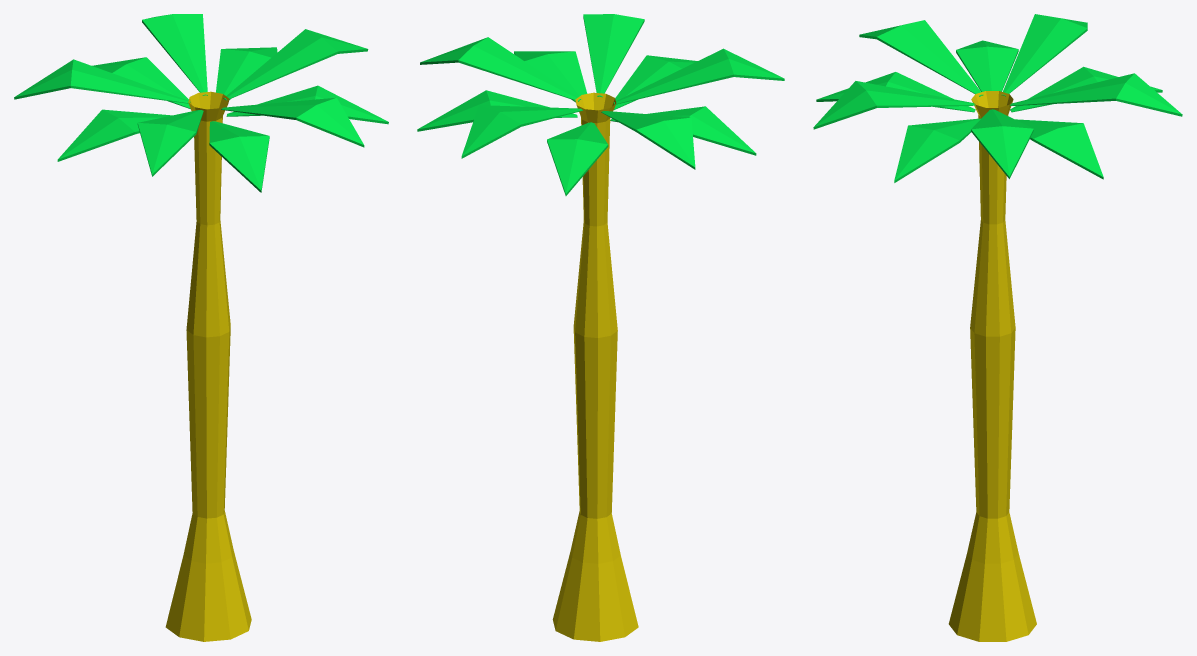
Rendered from PalmTree.fbx.
3 views of the same model, side by side, from view 1: azimuth 30°, elevation 25°; view 2: azimuth 150°, elevation 25°; view 3: azimuth 270°, elevation 25° (orthographic).
Parts seen in each view (by area): view 1: Cylinder; view 2: Cylinder; view 3: Cylinder.
Part boxes in pixels (x1,y1,x2,y2): Cylinder: (14, 14, 388, 641); Cylinder: (417, 14, 784, 641); Cylinder: (813, 14, 1182, 641).
Size of the model in its own units: 387 by 632 by 380.
